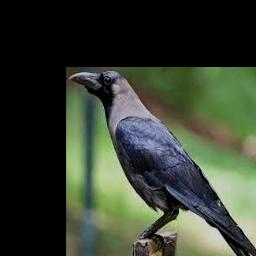Crow: (68, 71, 256, 256)
